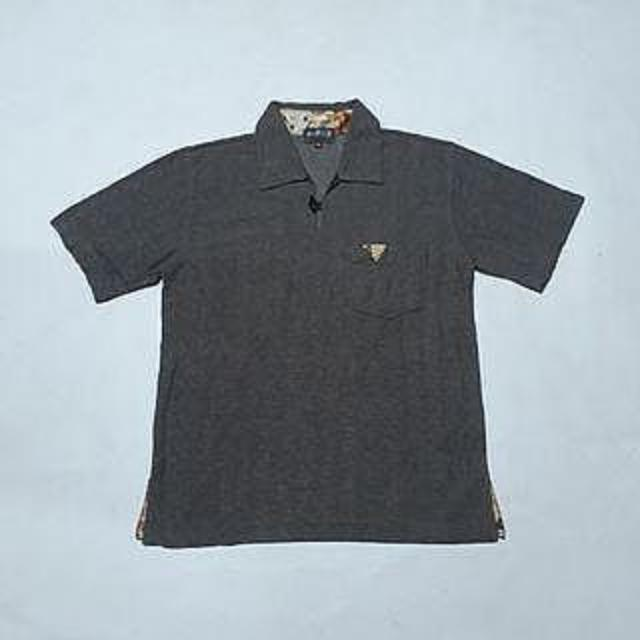T_SHIRT: (41, 88, 599, 558)
